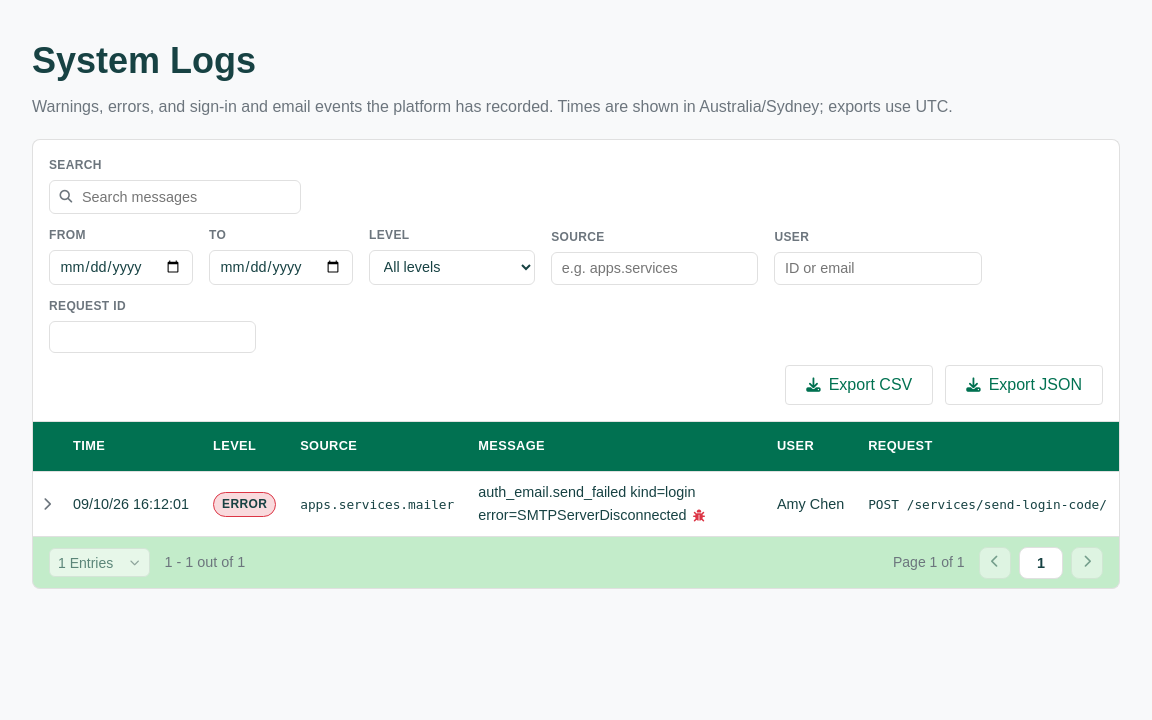
Test: AdminSystemLogsPage › names the "To" date when its year is past 9998
In the date field with id "log-to-filter": coordinates (281, 267) [209, 250, 353, 285], type "10000-01-01"
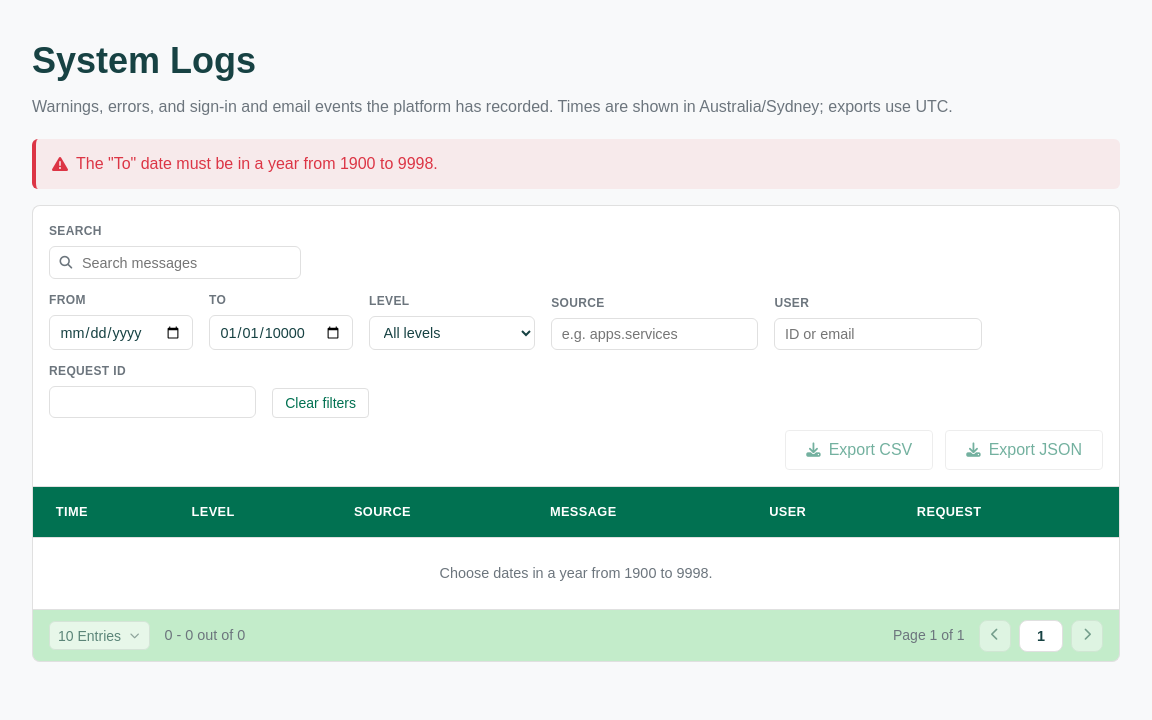
Expected: the message "The \"To\" date must be in a year from 1900 to 9998." reads "The \"To\" date must be in a year from 1900 to 9998.", [76, 155, 438, 172]
